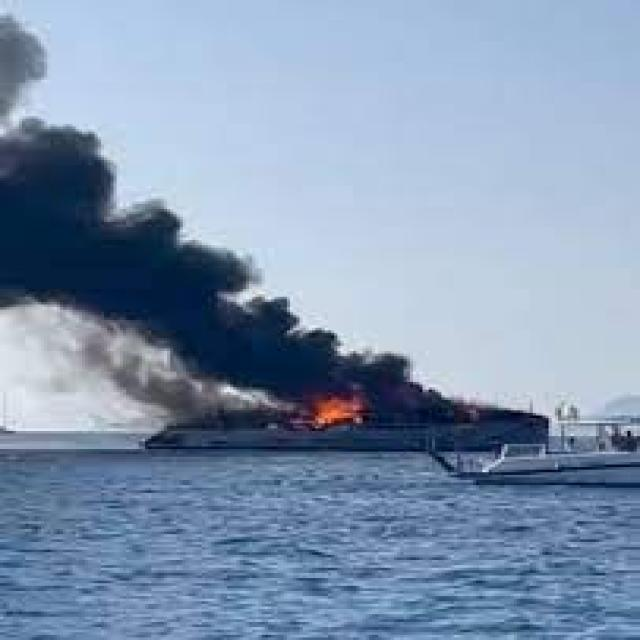Fire: (316, 388, 364, 426)
Smoke: (1, 12, 437, 423)
